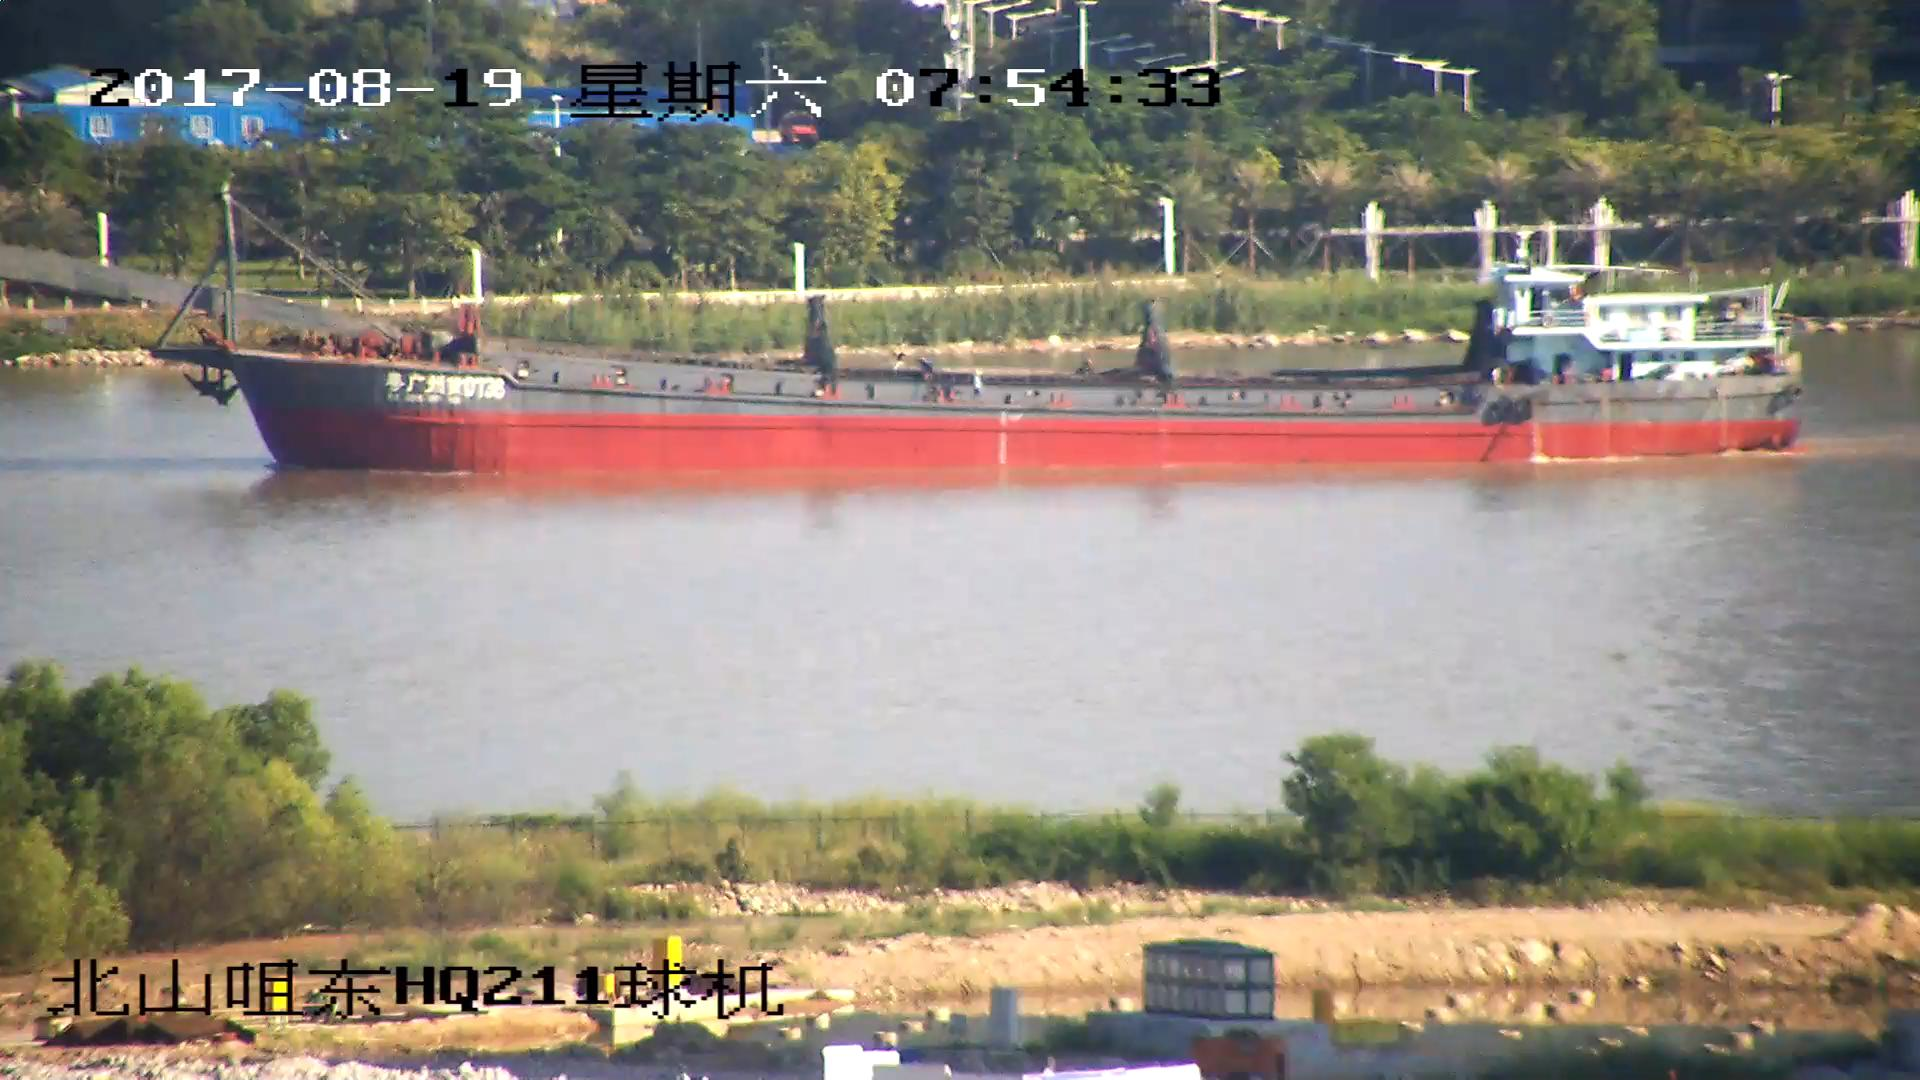bulk cargo carrier: (1, 204, 1808, 477)
